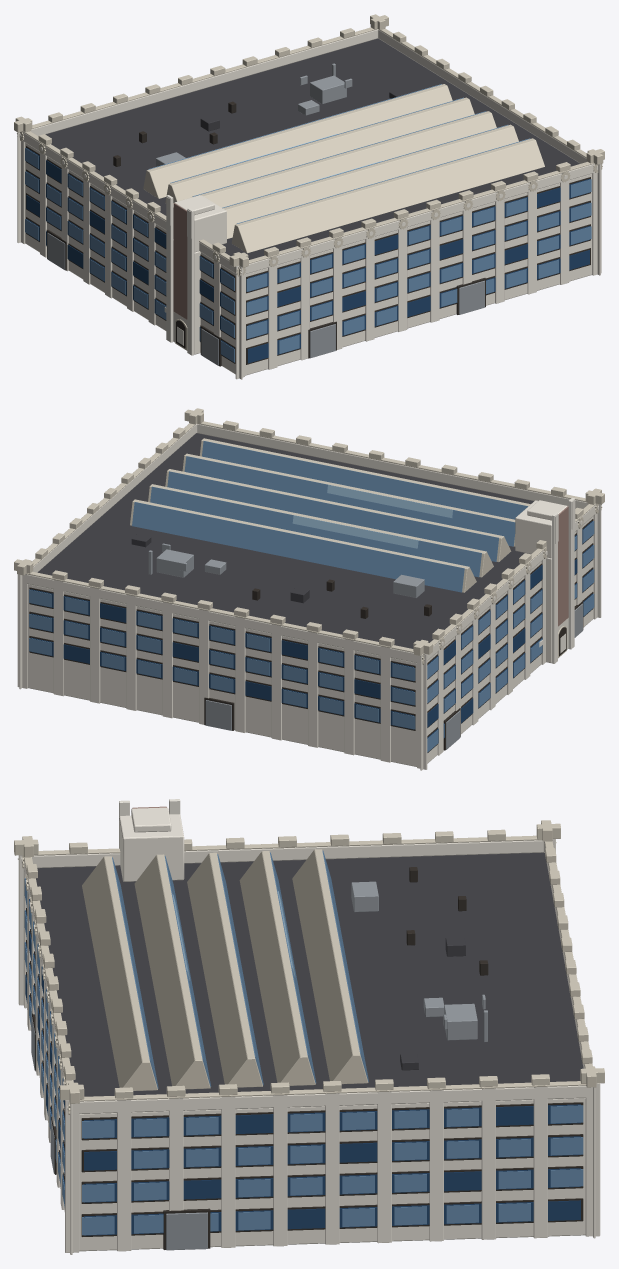
Rendered from mid.glb.
3 renders of one model, top to bottom at view 1: azimuth 30°, elevation 25°; view 2: azimuth 150°, elevation 25°; view 3: azimuth 270°, elevation 25°, orthographic. The views are drawn at different scales.
Parts seen in each view (by area): view 1: grp_Toy_stone, body, grp_Toy_cream, grp_Toy_glass_Glow, grp_Toy_glass, grp_Toy_ink, grp_Toy_steel, grp_Toy_trim, grp_Toy_glassl, tower_panel; view 2: body, grp_Toy_cream, grp_Toy_glassl, grp_Toy_stone, grp_Toy_glass_Glow, grp_Toy_glass, grp_Toy_ink, grp_Toy_steel, grp_Toy_glassl_Glow, grp_Toy_trim, tower_panel; view 3: body, grp_Toy_stone, grp_Toy_cream, grp_Toy_glass_Glow, grp_Toy_glass, grp_Toy_ink, grp_Toy_steel, grp_Toy_glassl, grp_Toy_roofd.
Boxes of the visible parts, bbox=[...] form: grp_Toy_stone: bbox=[14, 14, 604, 350]; body: bbox=[25, 38, 592, 375]; grp_Toy_cream: bbox=[17, 29, 601, 379]; grp_Toy_glass_Glow: bbox=[25, 148, 591, 362]; grp_Toy_glass: bbox=[26, 148, 589, 363]; grp_Toy_ink: bbox=[26, 101, 590, 366]; grp_Toy_steel: bbox=[47, 63, 484, 365]; grp_Toy_trim: bbox=[164, 195, 194, 355]; grp_Toy_glassl: bbox=[148, 84, 530, 223]; tower_panel: bbox=[173, 203, 187, 319]; body: bbox=[27, 433, 593, 766]; grp_Toy_cream: bbox=[17, 424, 601, 770]; grp_Toy_glassl: bbox=[132, 441, 527, 592]; grp_Toy_stone: bbox=[14, 408, 604, 664]; grp_Toy_glass_Glow: bbox=[29, 521, 594, 752]; grp_Toy_glass: bbox=[30, 521, 592, 750]; grp_Toy_ink: bbox=[29, 519, 593, 752]; grp_Toy_steel: bbox=[148, 543, 582, 749]; grp_Toy_glassl_Glow: bbox=[292, 485, 452, 548]; grp_Toy_trim: bbox=[539, 497, 574, 663]; tower_panel: bbox=[558, 506, 568, 626]; body: bbox=[26, 852, 585, 1251]; grp_Toy_stone: bbox=[14, 820, 604, 1114]; grp_Toy_cream: bbox=[18, 807, 600, 1254]; grp_Toy_glass_Glow: bbox=[24, 878, 583, 1235]; grp_Toy_glass: bbox=[25, 878, 580, 1235]; grp_Toy_ink: bbox=[26, 867, 583, 1249]; grp_Toy_steel: bbox=[31, 881, 487, 1250]; grp_Toy_glassl: bbox=[112, 850, 368, 1088]; grp_Toy_roofd: bbox=[400, 937, 465, 1070].
Size of the model in its own units: 67.32 by 22.5 by 61.61.
